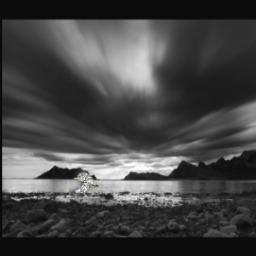Woodpecker: (69, 170, 99, 194)
